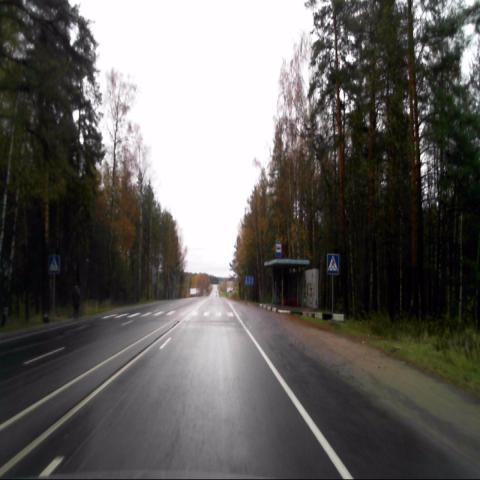5_19_1: (47, 253, 60, 275)
